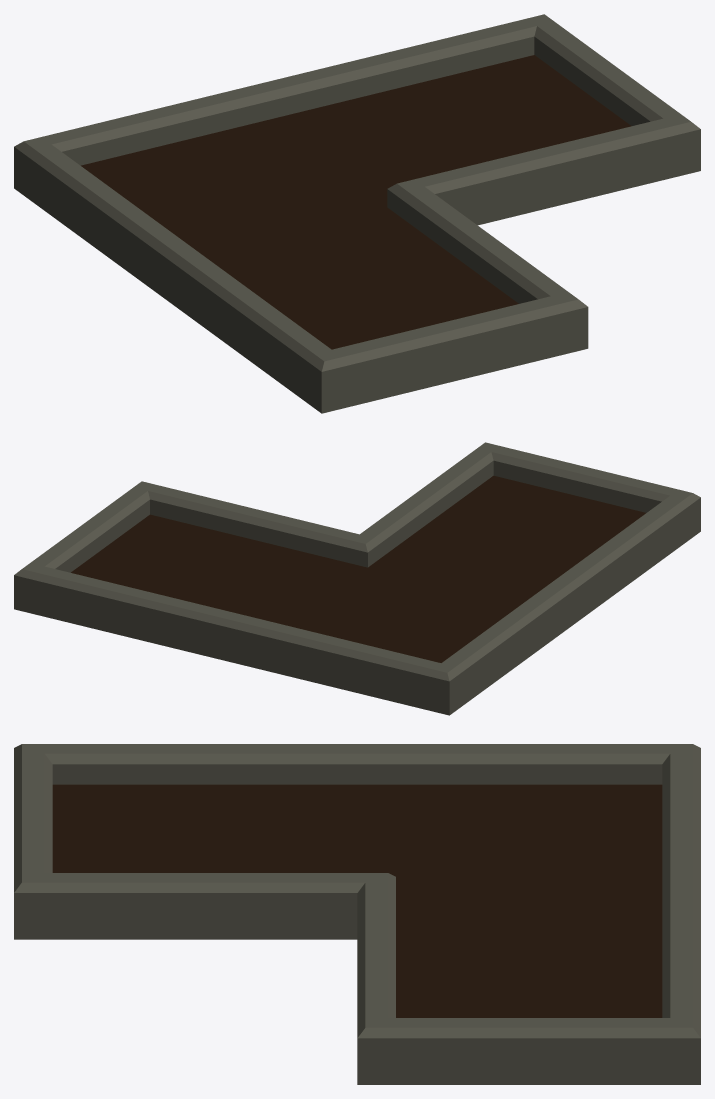
File: prop_gd_flower_bed_5.glb
The picture shows the model from 3 angles, top to bottom: view 1: azimuth 30°, elevation 25°; view 2: azimuth 150°, elevation 25°; view 3: azimuth 270°, elevation 25°; orthographic projection. The views are drawn at different scales.
Parts seen in each view (by area): view 1: FlowerBed5; view 2: FlowerBed5; view 3: FlowerBed5.
Part boxes in pixels (box(x1,y1,x2,y2)): FlowerBed5: box(14, 14, 700, 413); FlowerBed5: box(14, 442, 700, 715); FlowerBed5: box(14, 744, 700, 1084).
Size of the model in its own units: 4 by 0.3456 by 4.
